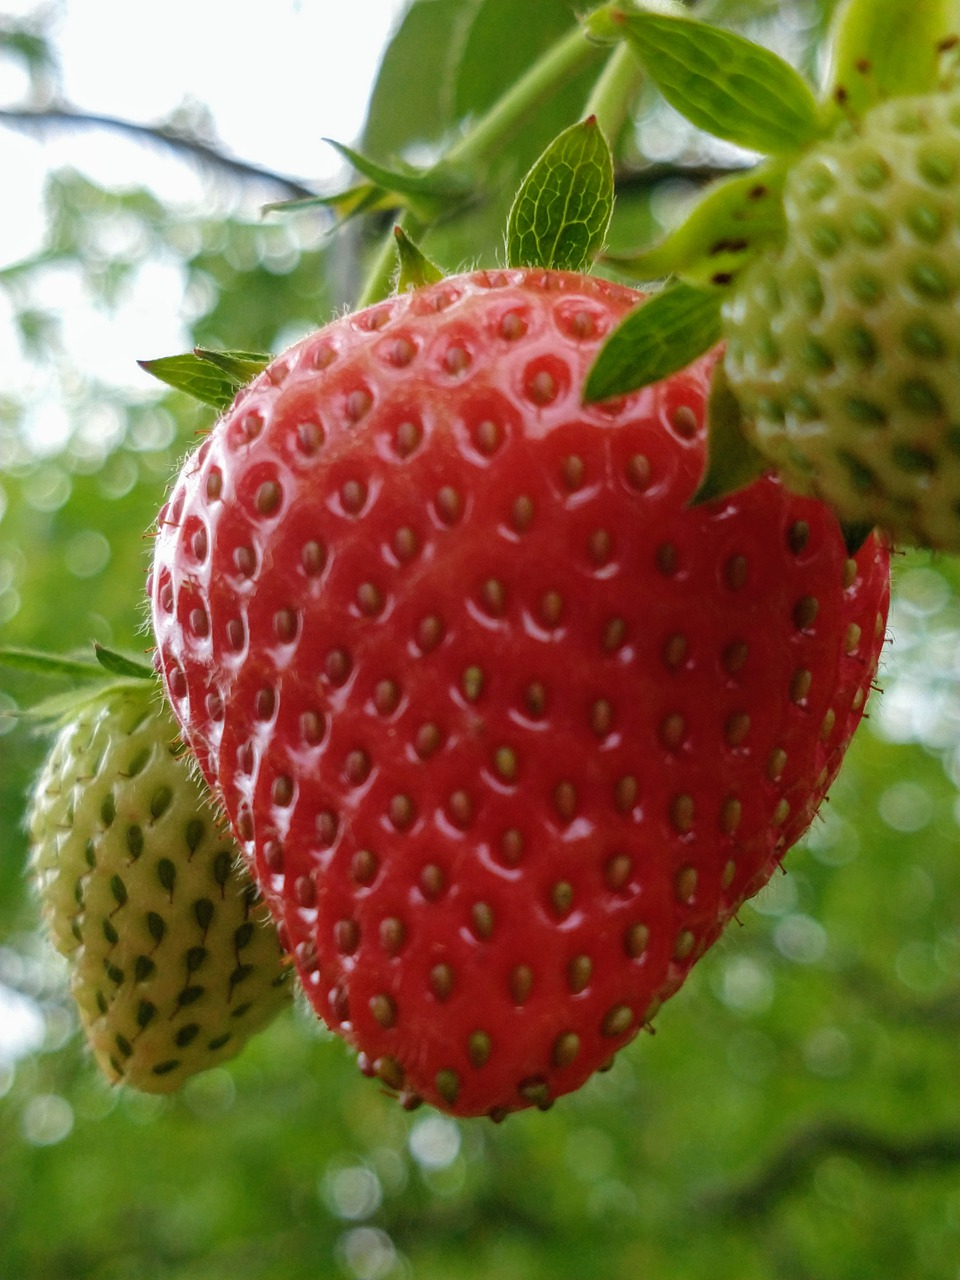ripe: (139, 248, 899, 1126)
unripe: (12, 670, 326, 1102), (718, 73, 960, 555)
